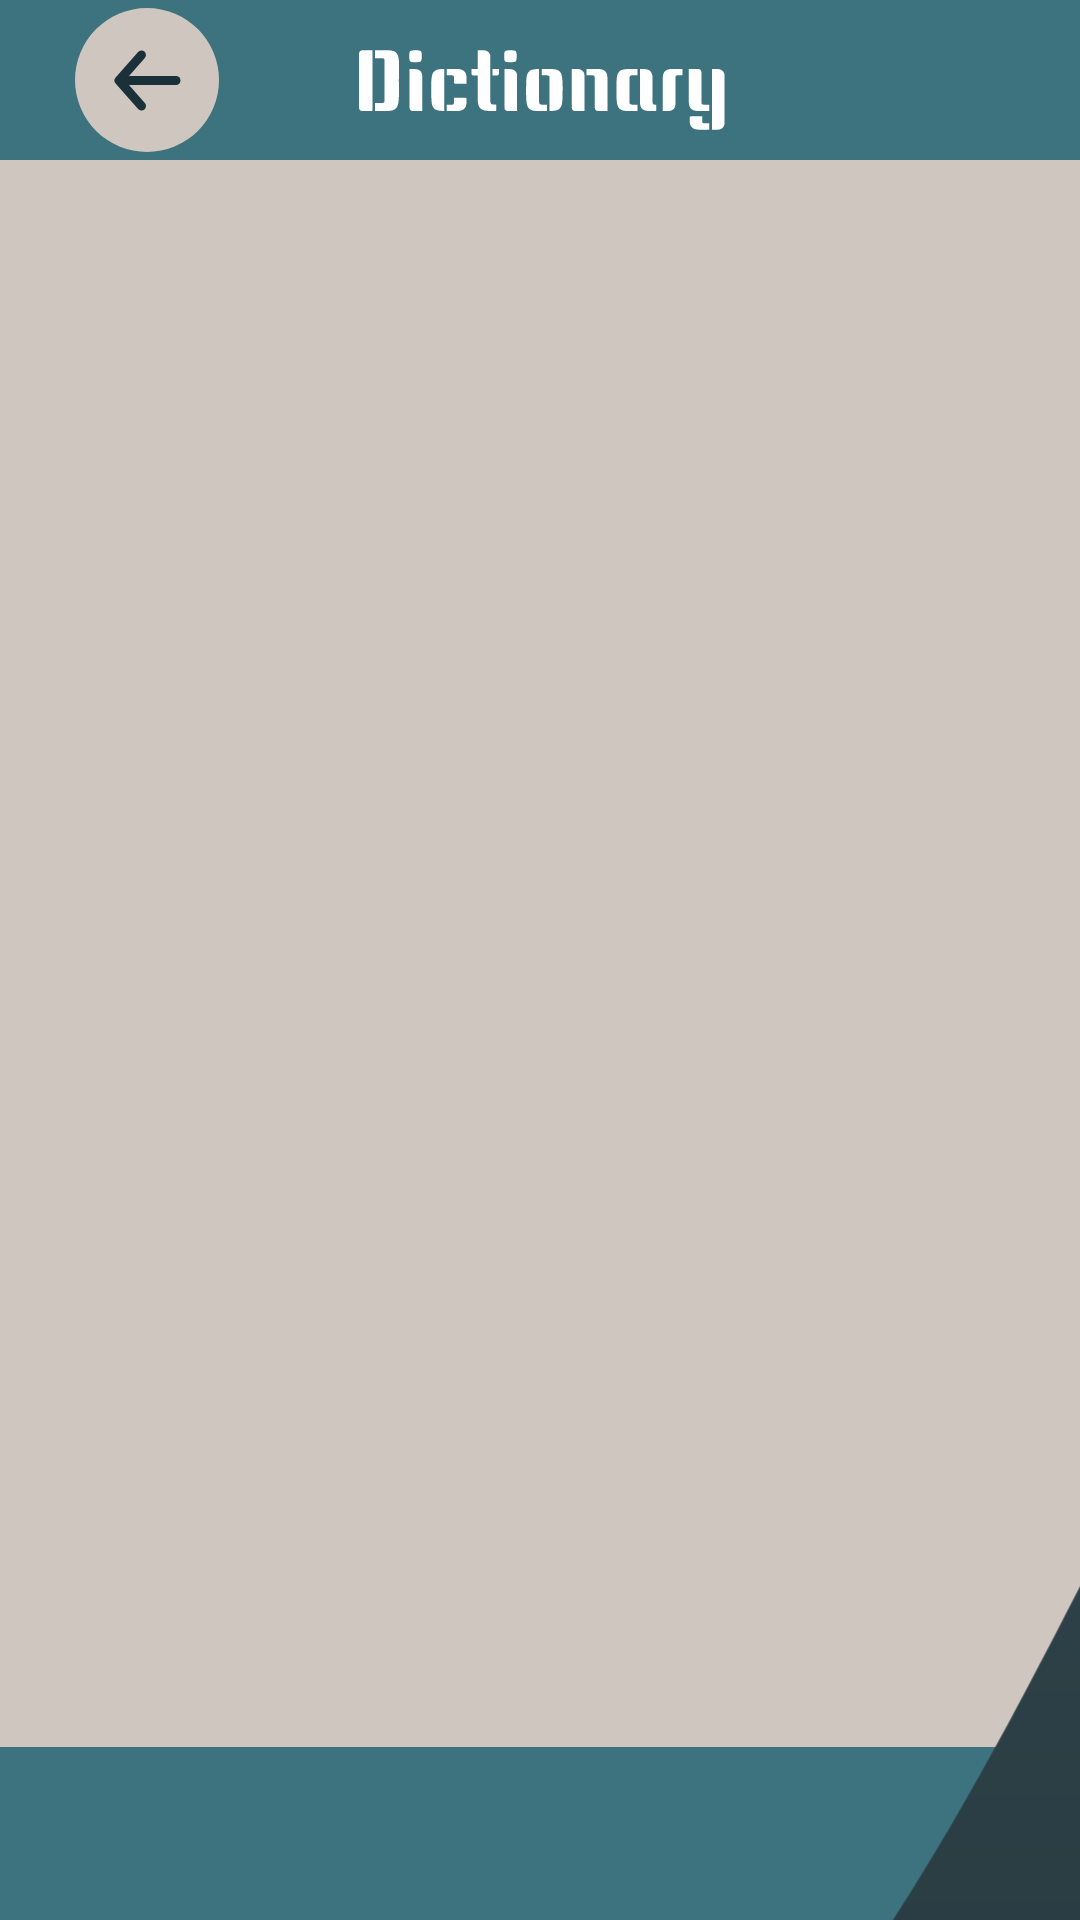

Icon click points for this 1080w x 1920h phone screenshot, format (x,y):
back arrow: (147,80)
